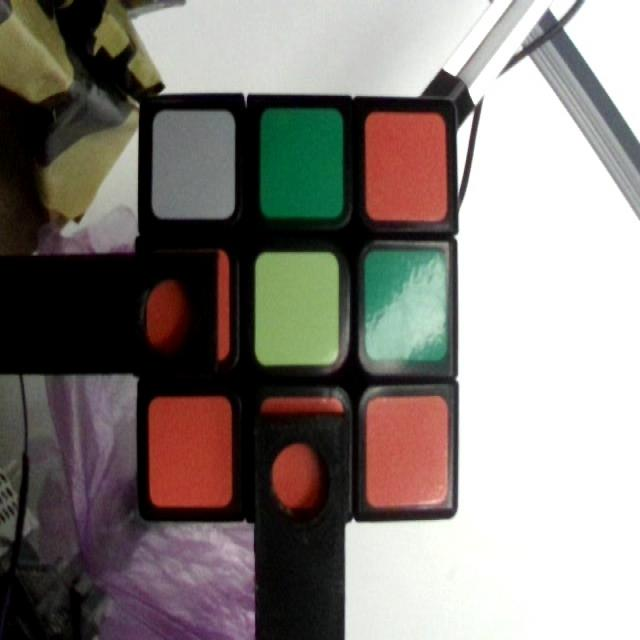g: (260, 106, 344, 217), (366, 249, 448, 359)
o: (150, 395, 232, 510), (365, 114, 448, 224), (370, 393, 446, 505), (148, 254, 229, 356), (267, 399, 342, 505)
w: (155, 105, 233, 218)
y: (257, 254, 339, 362)
